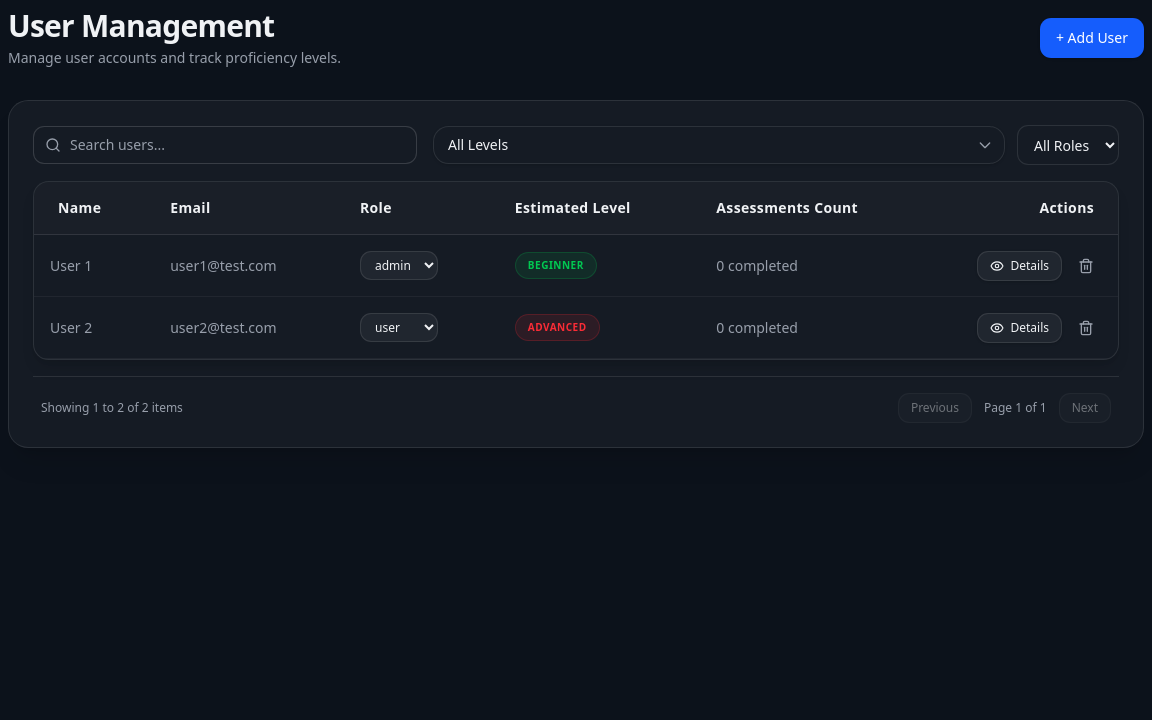
it: /manageUsers page › warns when the role change fails
This screenshot has width=1152, height=720.
Check: the text "user1@test.com" is shown, box [146, 234, 336, 296]
Select "admin" in the dropdown in the row of "User 1". click: (399, 266)
box: [360, 251, 438, 280]
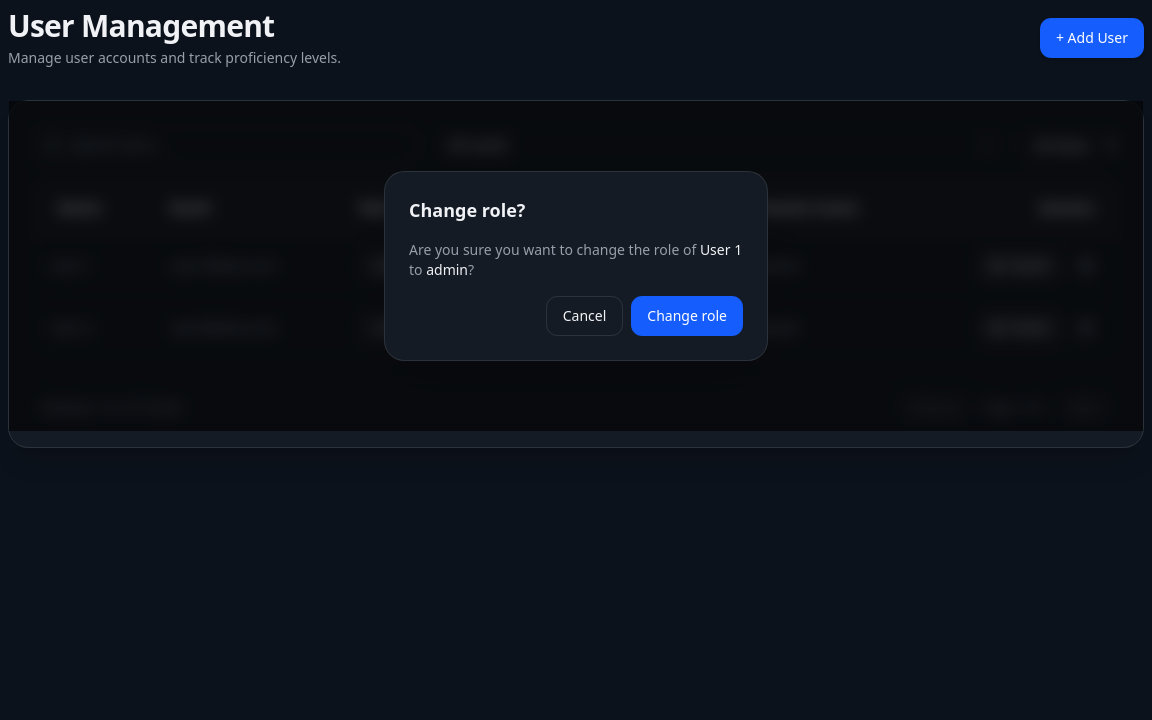
Click the button "Change role". click: (687, 316)
box: [631, 296, 743, 336]
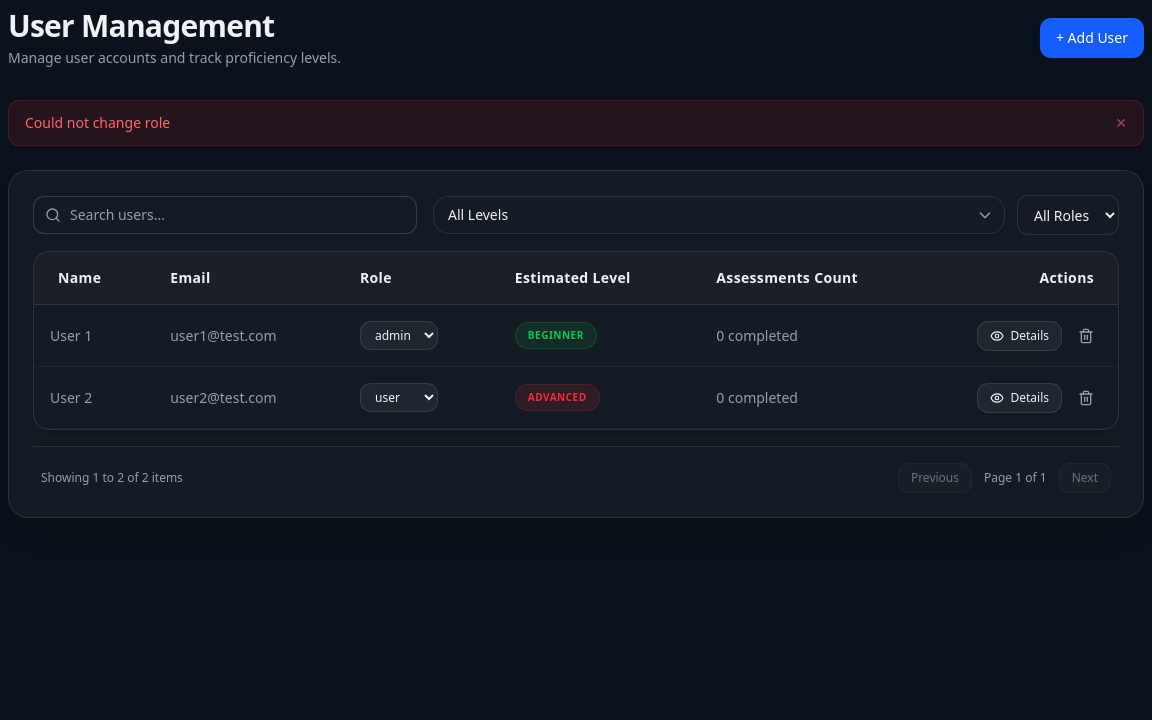
Check: the text "Could not change role" is shown, box [25, 113, 170, 133]
